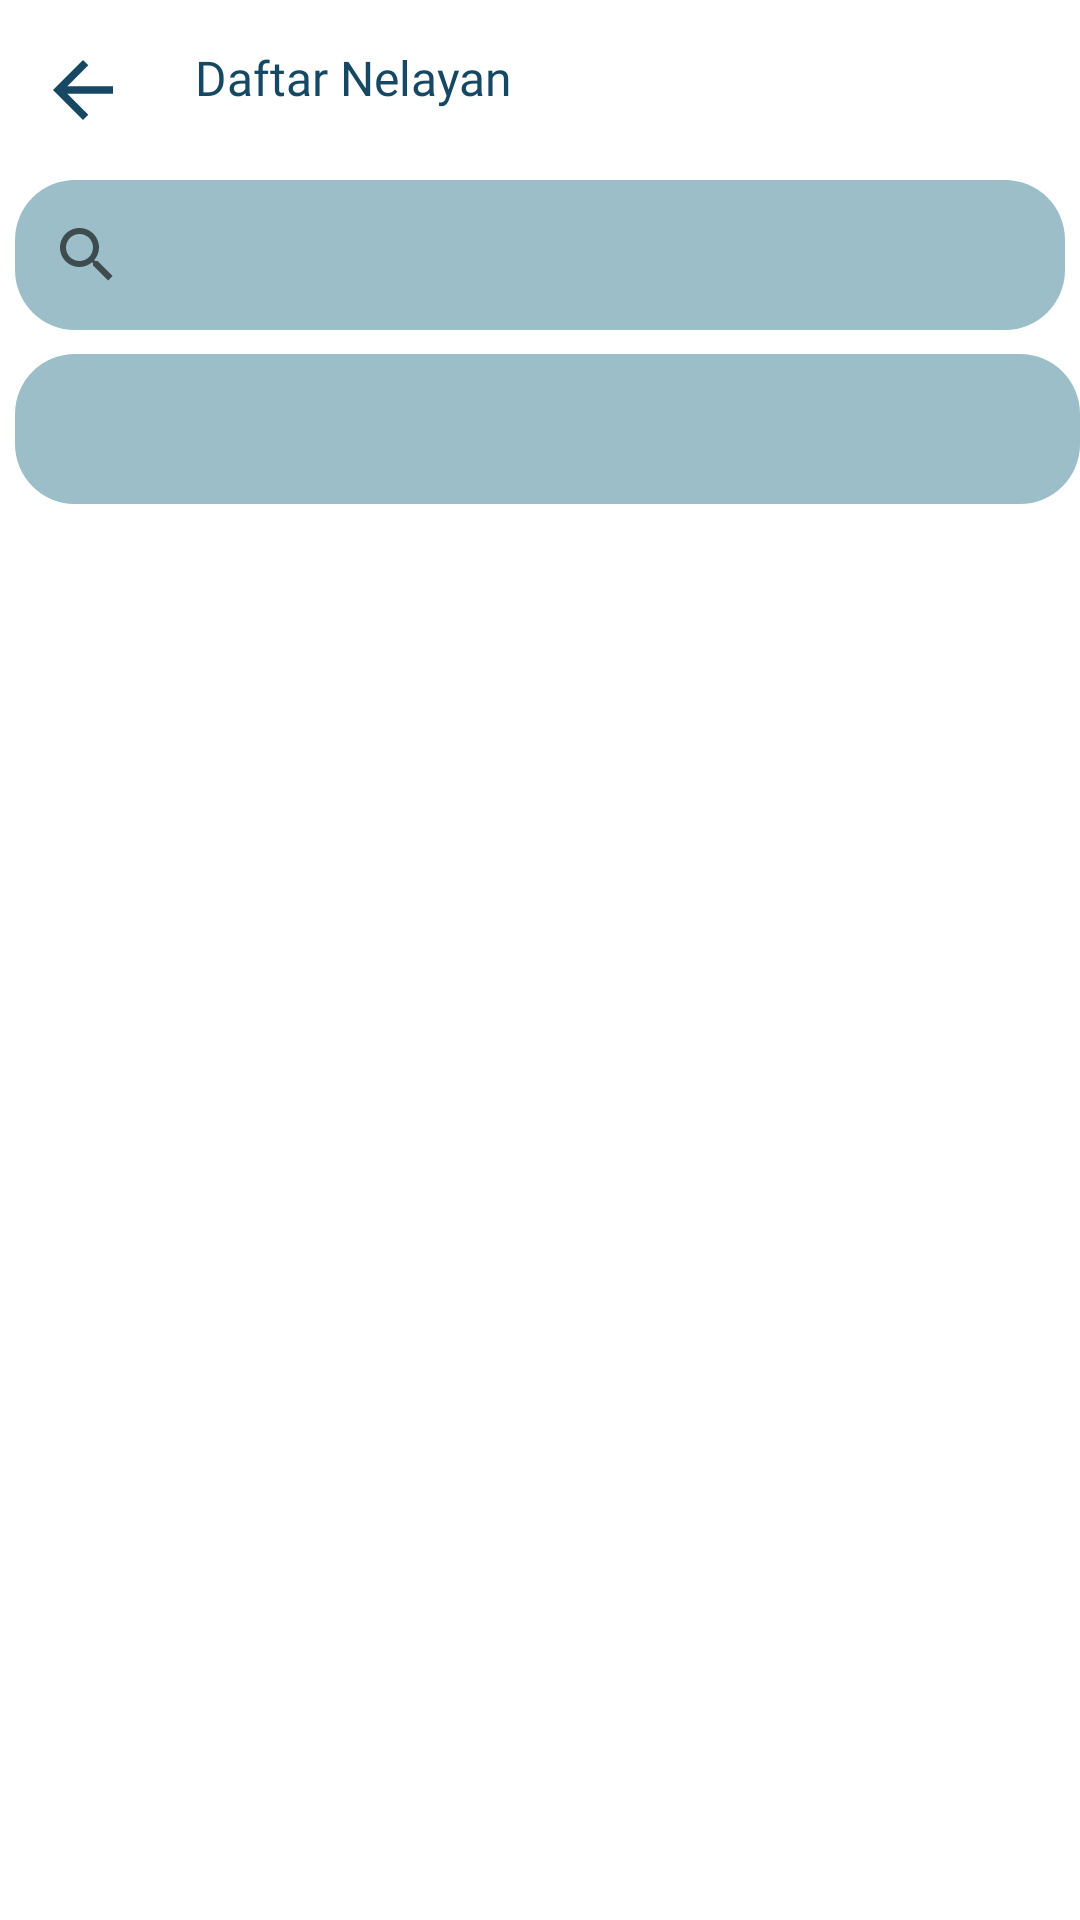

Named icons in this screenshot (1080 x 1920) and their bounding boxes, (x1, y1, x2, y2):
Back Icon: (53, 60, 113, 120)
